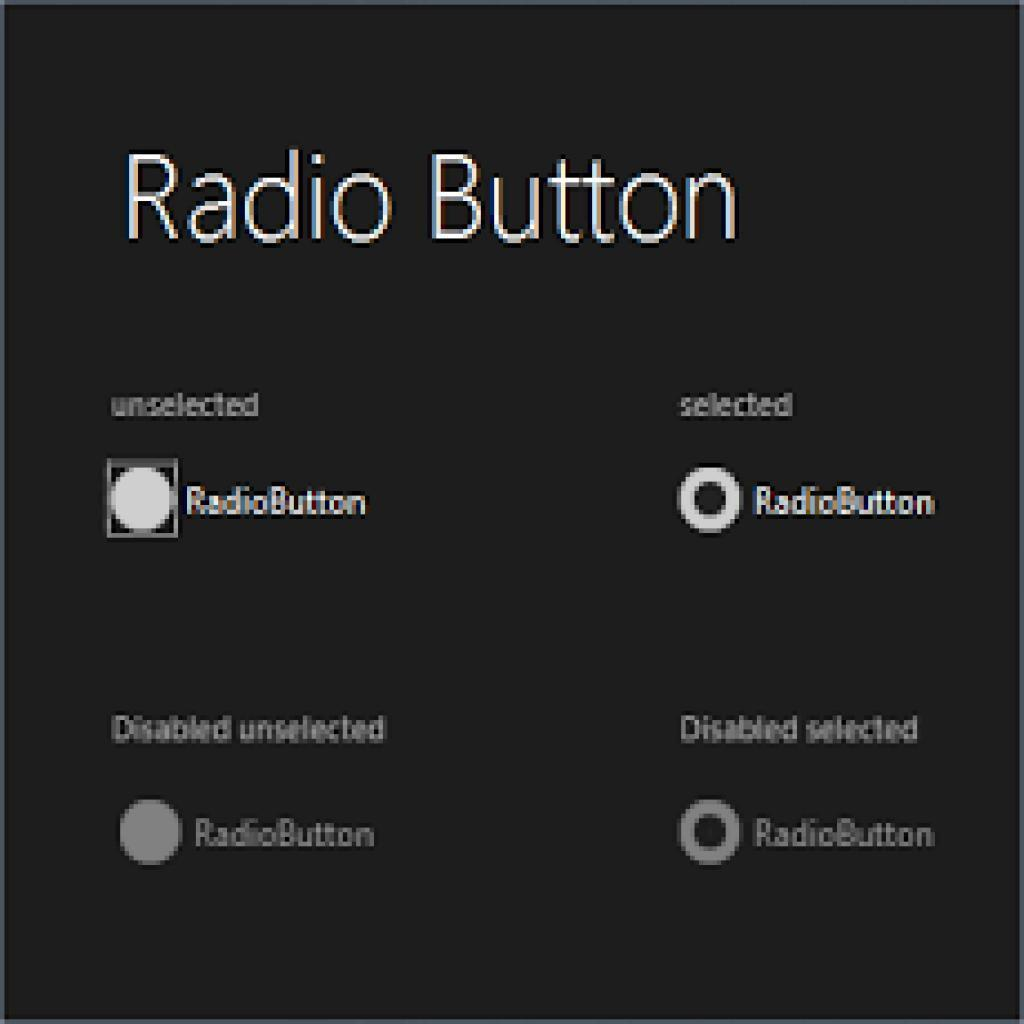label: (107, 709, 392, 757), (676, 706, 926, 756), (750, 811, 939, 857), (755, 484, 942, 528), (187, 485, 374, 529), (199, 813, 379, 856), (110, 394, 267, 425), (679, 394, 803, 426)
radio: (677, 461, 744, 538), (107, 464, 177, 537), (675, 798, 743, 869), (117, 801, 185, 868)
